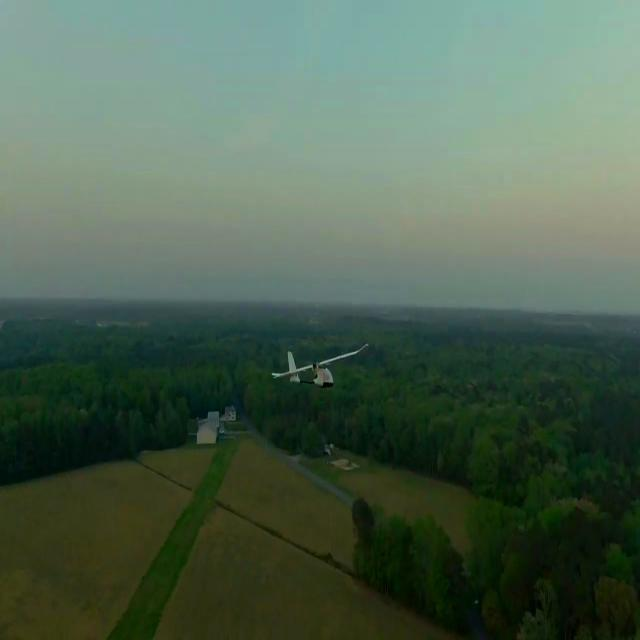iha: (297, 363, 341, 368)
